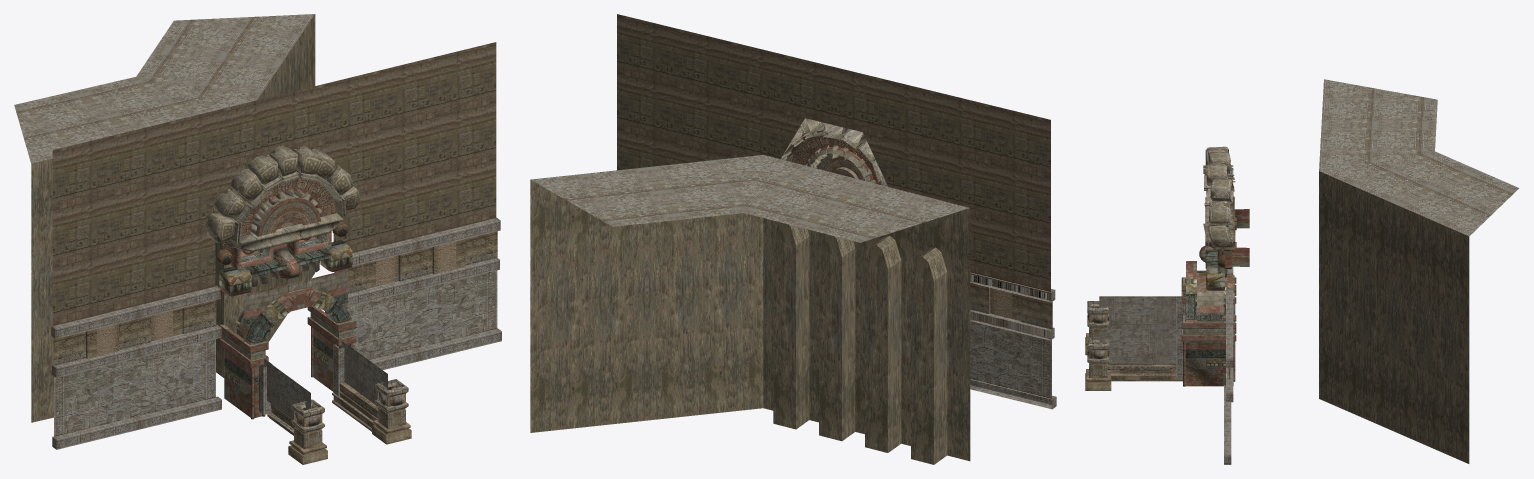
The model's file is AncientTower - 복사본.fbx.
3 renders of one model, left to right at view 1: azimuth 30°, elevation 25°; view 2: azimuth 150°, elevation 25°; view 3: azimuth 270°, elevation 25°, orthographic. The views are drawn at different scales.
Visible parts, largest first — view 1: LV_AncientTower_Dungeon_WarehouseWall04RemoveWallB_SM_KWY; view 2: LV_AncientTower_Dungeon_WarehouseWall04RemoveWallB_SM_KWY; view 3: LV_AncientTower_Dungeon_WarehouseWall04RemoveWallB_SM_KWY.
Boxes of the visible parts, <box> form: LV_AncientTower_Dungeon_WarehouseWall04RemoveWallB_SM_KWY: <box>14,14,501,464</box>; LV_AncientTower_Dungeon_WarehouseWall04RemoveWallB_SM_KWY: <box>530,14,1056,464</box>; LV_AncientTower_Dungeon_WarehouseWall04RemoveWallB_SM_KWY: <box>1085,79,1519,464</box>.
Bounding box in the file's own units: 7.77 × 5.3 × 7.45.
